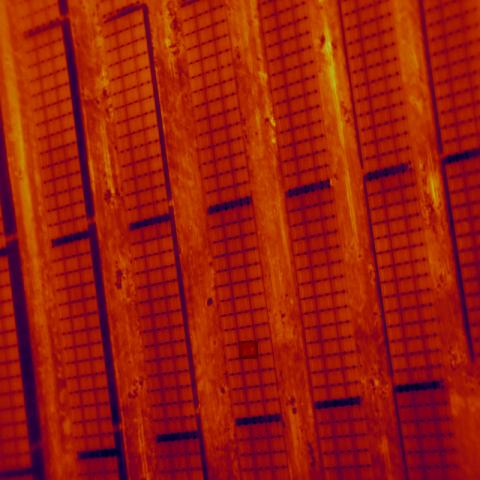fault: (239, 341, 258, 359)
